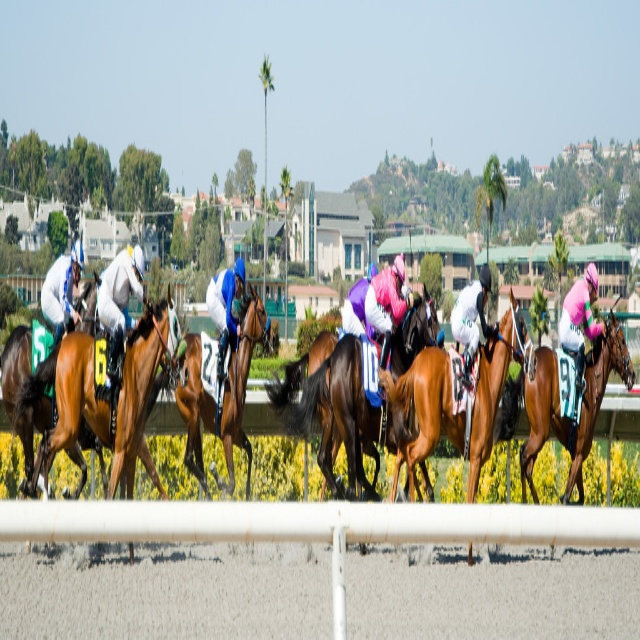Horse: (0, 269, 636, 565)
